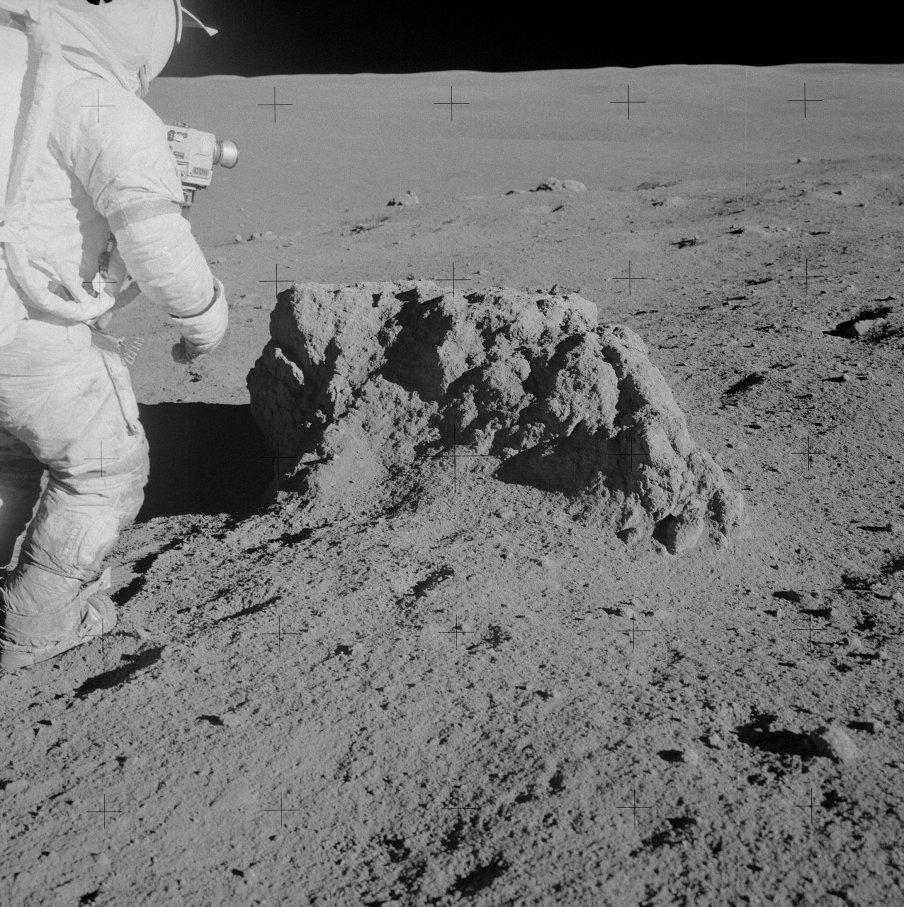rock: (248, 280, 744, 553)
